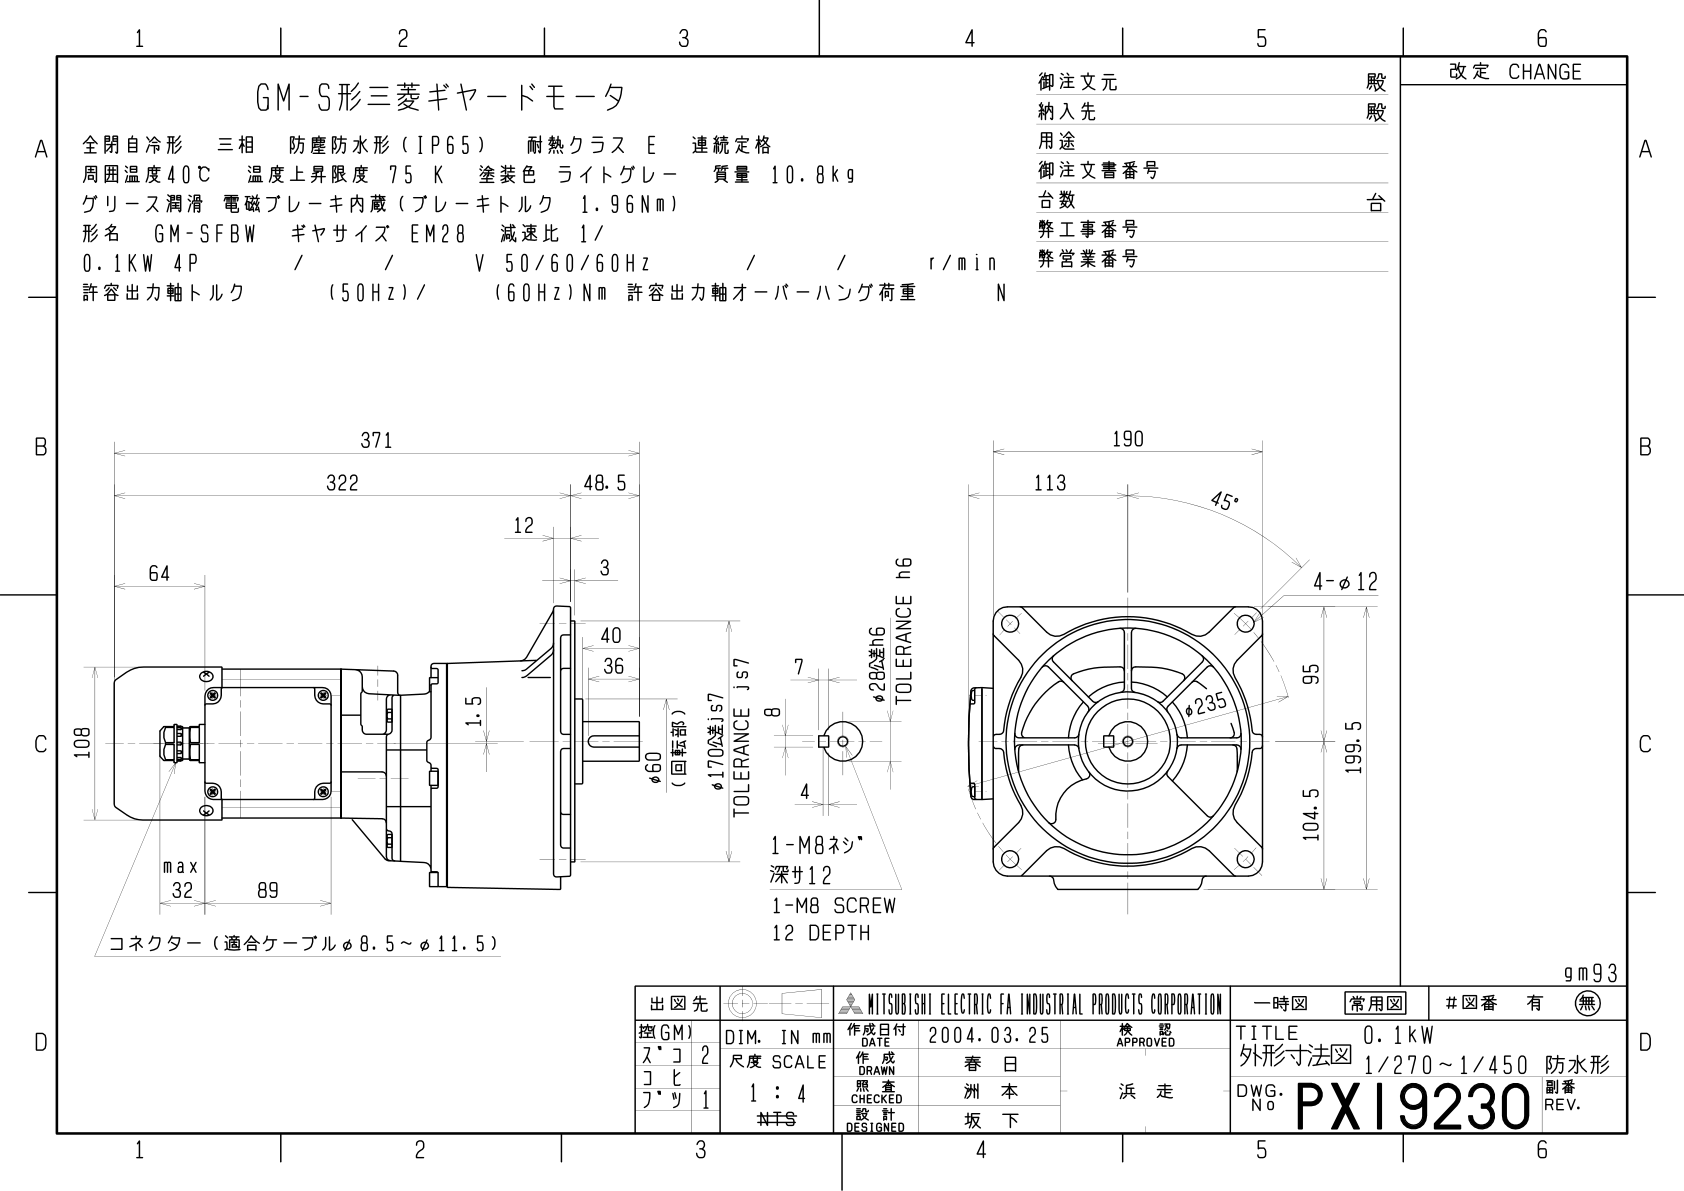GM_S_IP65＿三相_フランジ: (70, 375, 1393, 963)
